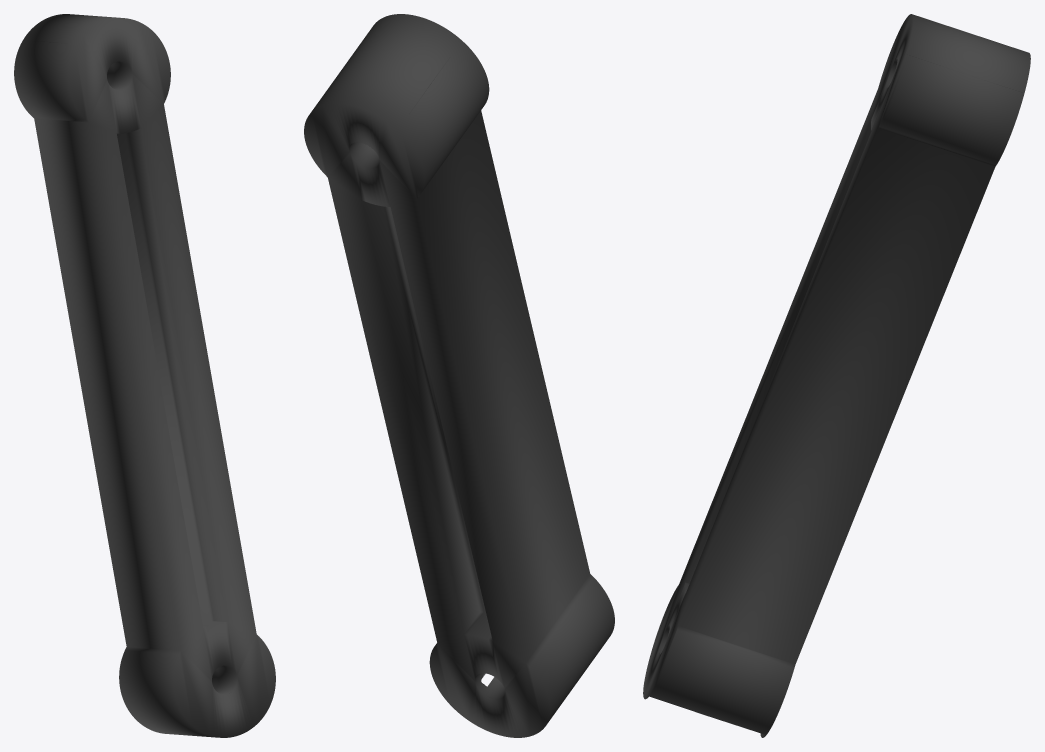
Rendered from chwytak3_P.obj.
3 renders of one model, left to right at view 1: azimuth 30°, elevation 25°; view 2: azimuth 150°, elevation 25°; view 3: azimuth 270°, elevation 25°, orthographic. The views are drawn at different scales.
Parts seen in each view (by area): view 1: pret_P; view 2: pret_P; view 3: pret_P.
Part boxes in pixels (bbox=[...]): pret_P: bbox=[14, 14, 275, 737]; pret_P: bbox=[304, 14, 614, 737]; pret_P: bbox=[643, 14, 1030, 737].
Bounding box in the file's own units: 0.3229 × 2.02 × 0.9962.
Materials: 1 (1 with a texture image).
